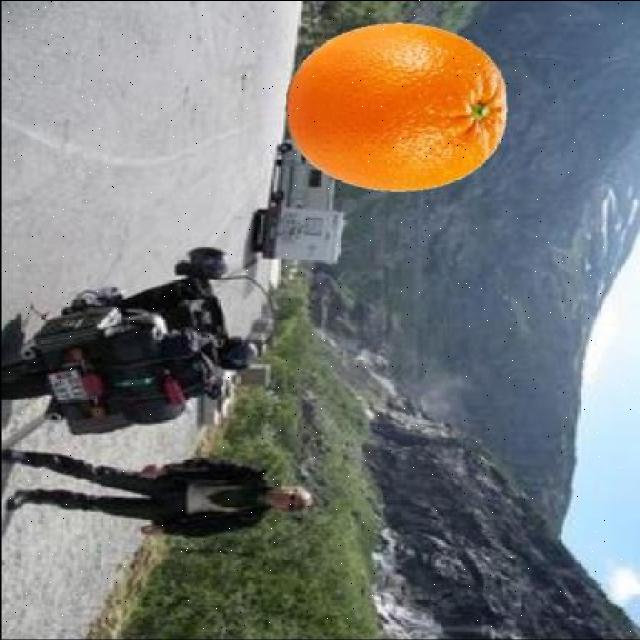Orange: (283, 22, 509, 194)
